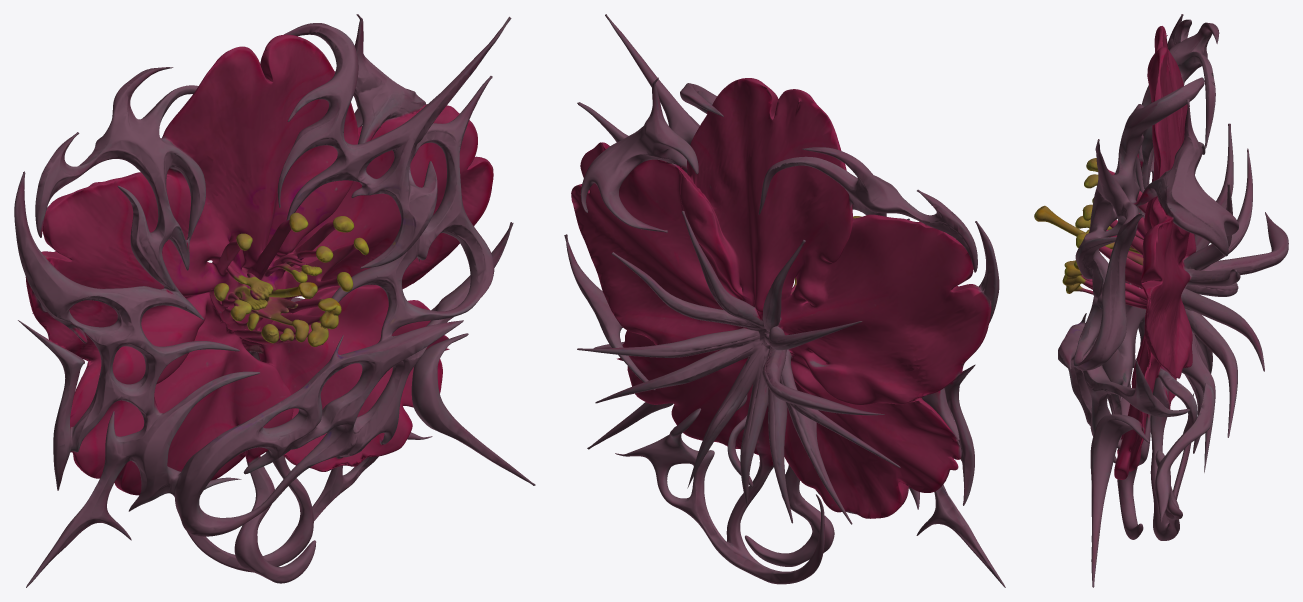
The model's file is flower.glb.
The picture shows the model from 3 angles, left to right: view 1: azimuth 30°, elevation 25°; view 2: azimuth 150°, elevation 25°; view 3: azimuth 270°, elevation 25°; orthographic projection. The views are drawn at different scales.
Parts seen in each view (by area): view 1: tripo_node_88b88c75-1a81-43eb-a9e7-1c729bfc8b72; view 2: tripo_node_88b88c75-1a81-43eb-a9e7-1c729bfc8b72; view 3: tripo_node_88b88c75-1a81-43eb-a9e7-1c729bfc8b72.
Part boxes in pixels (x1,y1,x2,y2): tripo_node_88b88c75-1a81-43eb-a9e7-1c729bfc8b72: [14, 14, 535, 587]; tripo_node_88b88c75-1a81-43eb-a9e7-1c729bfc8b72: [564, 14, 1005, 587]; tripo_node_88b88c75-1a81-43eb-a9e7-1c729bfc8b72: [1034, 14, 1288, 587].
Size of the model in its own units: 0.9234 by 0.9798 by 0.4573.
Materials: 1 (1 with a texture image).
